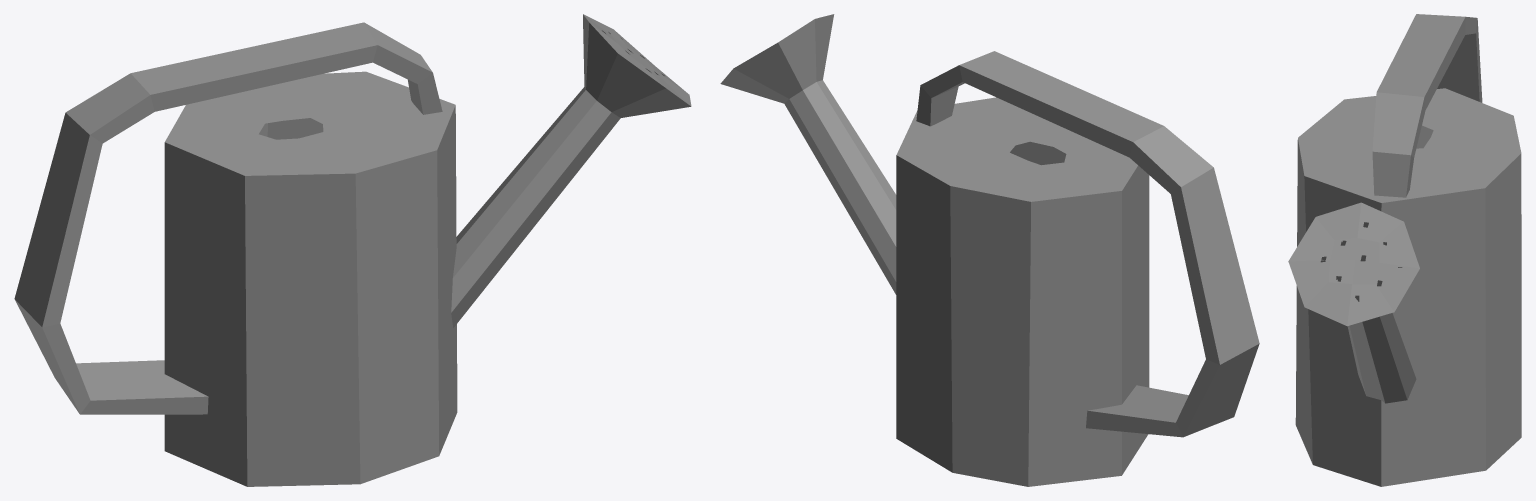
Rendered from Watering_Can_2.fbx.
3 views of the same model, side by side, from view 1: azimuth 30°, elevation 25°; view 2: azimuth 150°, elevation 25°; view 3: azimuth 270°, elevation 25° (orthographic). The views are drawn at different scales.
Visible parts, largest first — view 1: Watering_Can_2; view 2: Watering_Can_2; view 3: Watering_Can_2.
Boxes of the visible parts, x1,y1,x2,y2 form: Watering_Can_2: [14, 14, 691, 486]; Watering_Can_2: [720, 14, 1259, 486]; Watering_Can_2: [1288, 14, 1521, 486].
Bounding box in the file's own units: 69.86 × 25.27 × 43.19.
